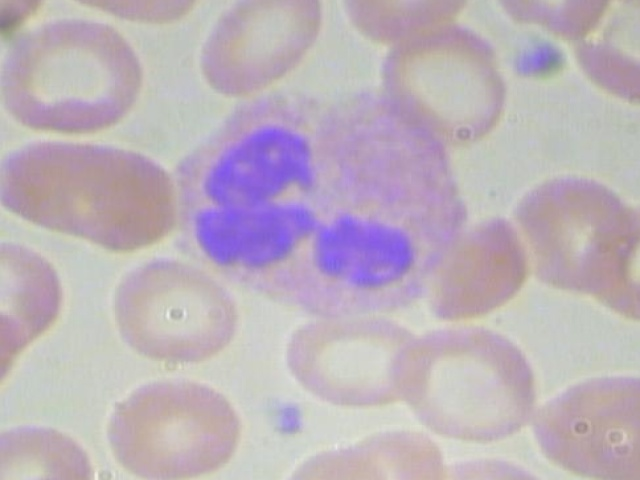Platelets: (496, 28, 572, 86), (262, 394, 317, 447)
RBC: (0, 125, 179, 258), (395, 315, 560, 446), (498, 155, 640, 305), (369, 13, 514, 152), (0, 15, 147, 143), (275, 307, 437, 414), (91, 375, 250, 480), (91, 256, 240, 368), (197, 0, 332, 106), (526, 359, 640, 480), (551, 0, 640, 108), (583, 190, 640, 326), (0, 234, 65, 351), (0, 0, 45, 46)
WBC: (147, 83, 495, 327)
